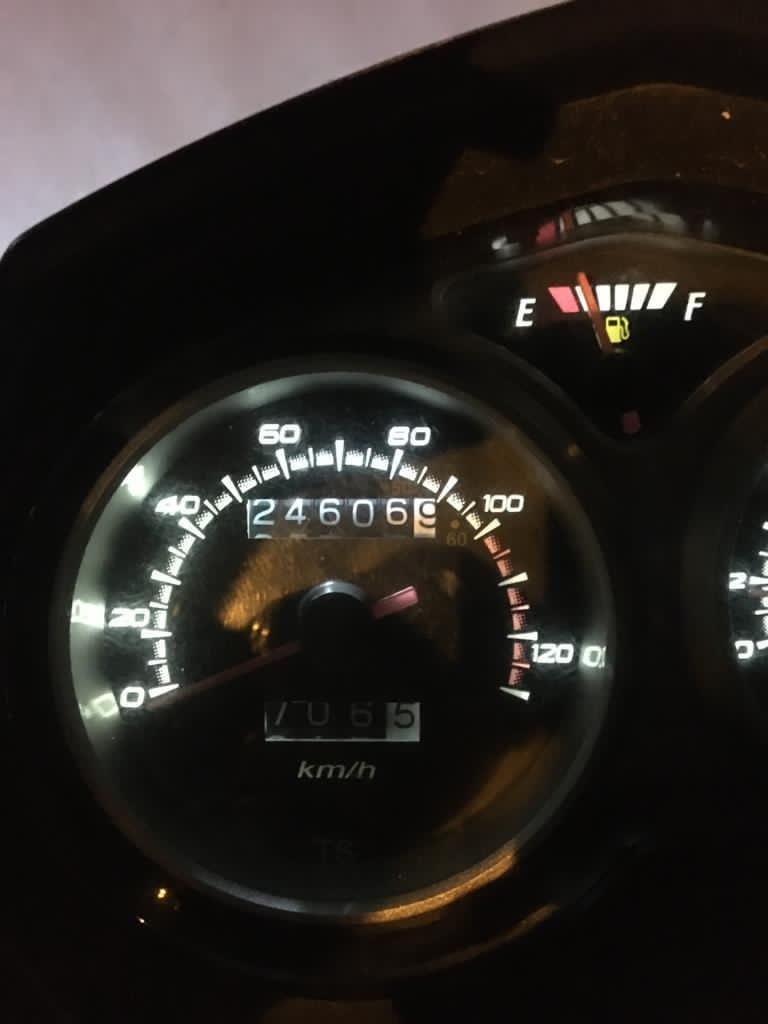0: (351, 498, 375, 528)
2: (251, 498, 276, 526)
4: (283, 497, 307, 525)
6: (385, 496, 408, 526), (318, 497, 341, 526)
9: (418, 500, 438, 528)
odometer: (242, 495, 439, 542)
